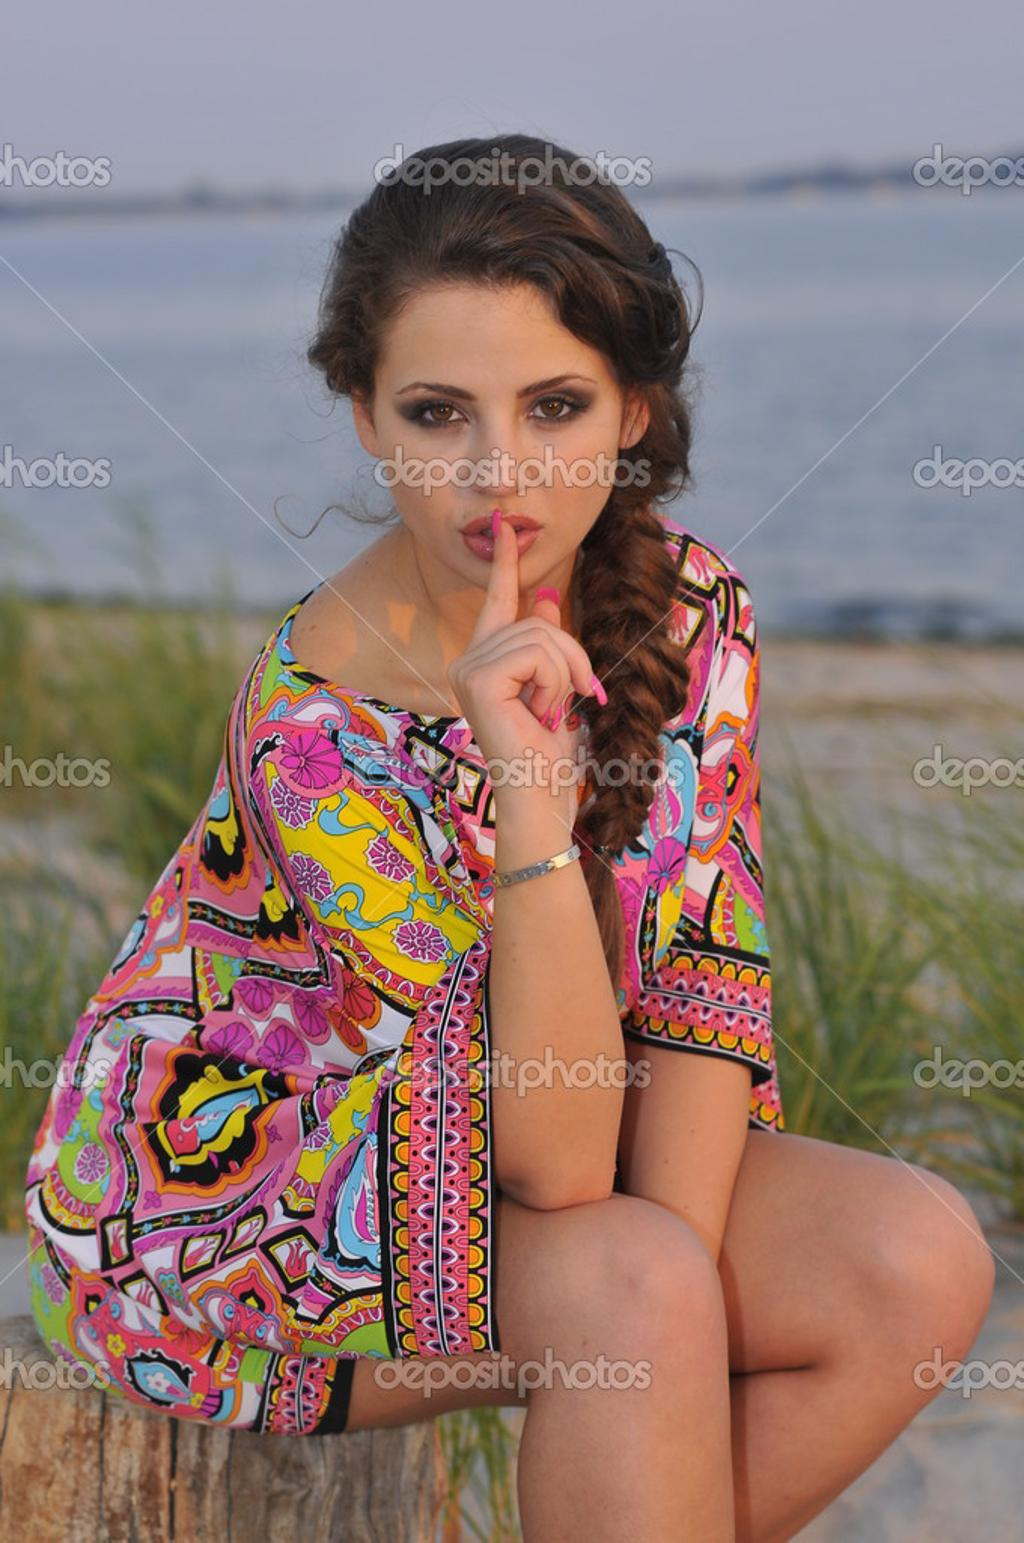face: (370, 271, 620, 587)
